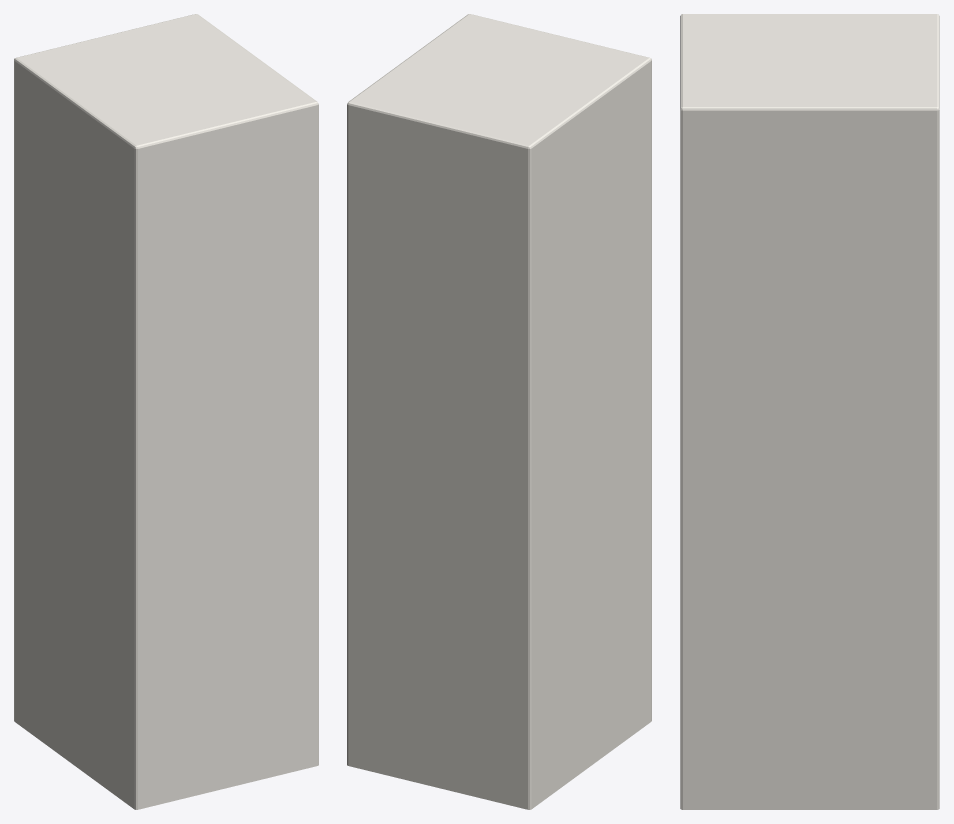
The model's file is Aur_DisplayStand_tall2.gltf.
The picture shows the model from 3 angles, left to right: view 1: azimuth 30°, elevation 25°; view 2: azimuth 150°, elevation 25°; view 3: azimuth 270°, elevation 25°; orthographic projection. The views are drawn at different scales.
Parts seen in each view (by area): view 1: Aur_DisplayStand_tall2.001; view 2: Aur_DisplayStand_tall2.001; view 3: Aur_DisplayStand_tall2.001.
Part boxes in pixels (x1,y1,x2,y2): Aur_DisplayStand_tall2.001: (14, 14, 318, 809); Aur_DisplayStand_tall2.001: (347, 14, 651, 809); Aur_DisplayStand_tall2.001: (680, 14, 939, 809).
Size of what is drawn, in the model's own units: 0.3085 by 1.06 by 0.3555.
Materials: 1 (1 with a texture image).
